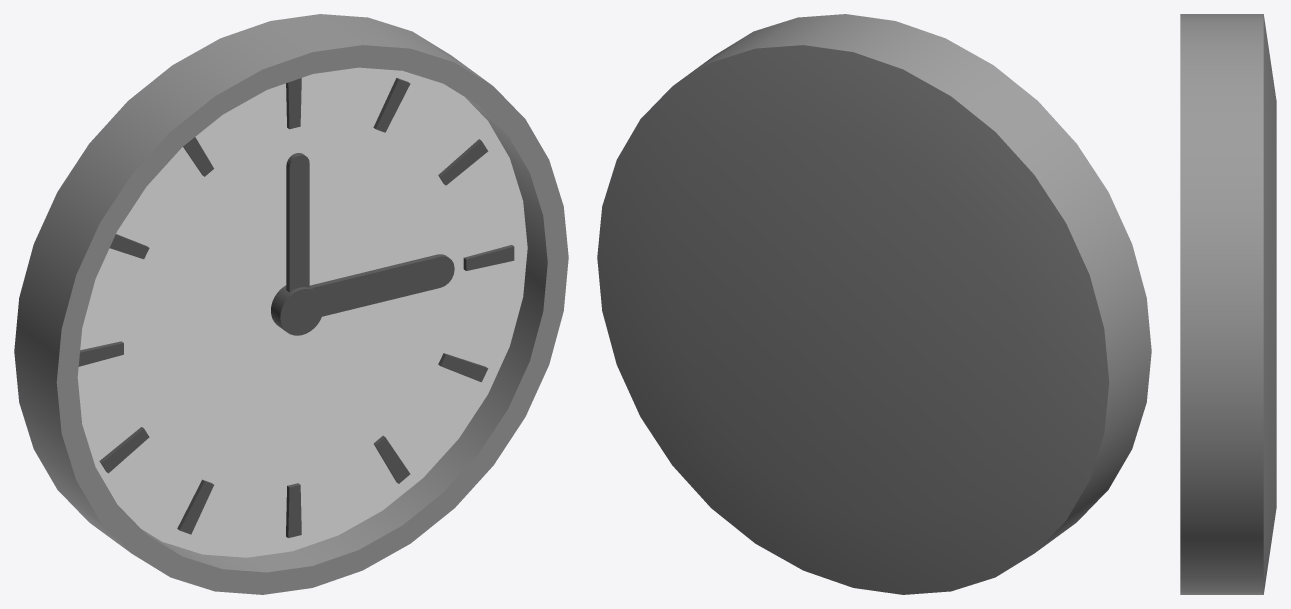
File: three_oclock.glb
3 views of the same model, side by side, from view 1: azimuth 30°, elevation 25°; view 2: azimuth 150°, elevation 25°; view 3: azimuth 270°, elevation 25° (orthographic).
Parts seen in each view (by area): view 1: Circle.2447; view 2: Circle.2447; view 3: Circle.2447.
Boxes of the visible parts, x1,y1,x2,y2 form: Circle.2447: [14, 14, 568, 594]; Circle.2447: [597, 14, 1151, 594]; Circle.2447: [1180, 14, 1276, 594].
Bounding box in the file's own units: 2.33 × 2.33 × 0.387.
1 material, 1 textured.
